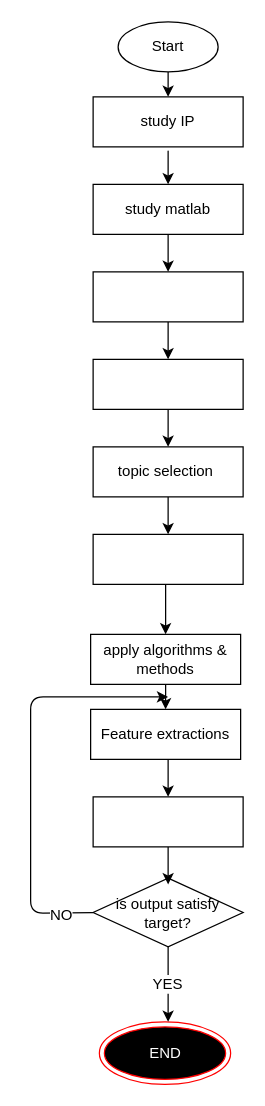
Image size: 265x1106. Some labels were removed from this diagram. Each missing label, with the box of its shape:
analysis output: (92, 796, 243, 847)
reading journals about IP: (92, 358, 243, 409)
study details about topic: (92, 533, 243, 584)
study machine learning: (92, 271, 243, 322)
